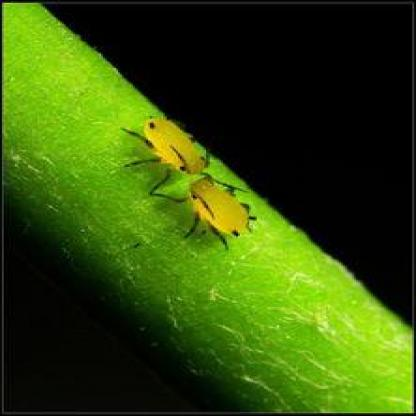aphid: (121, 104, 218, 184), (164, 167, 257, 240)
